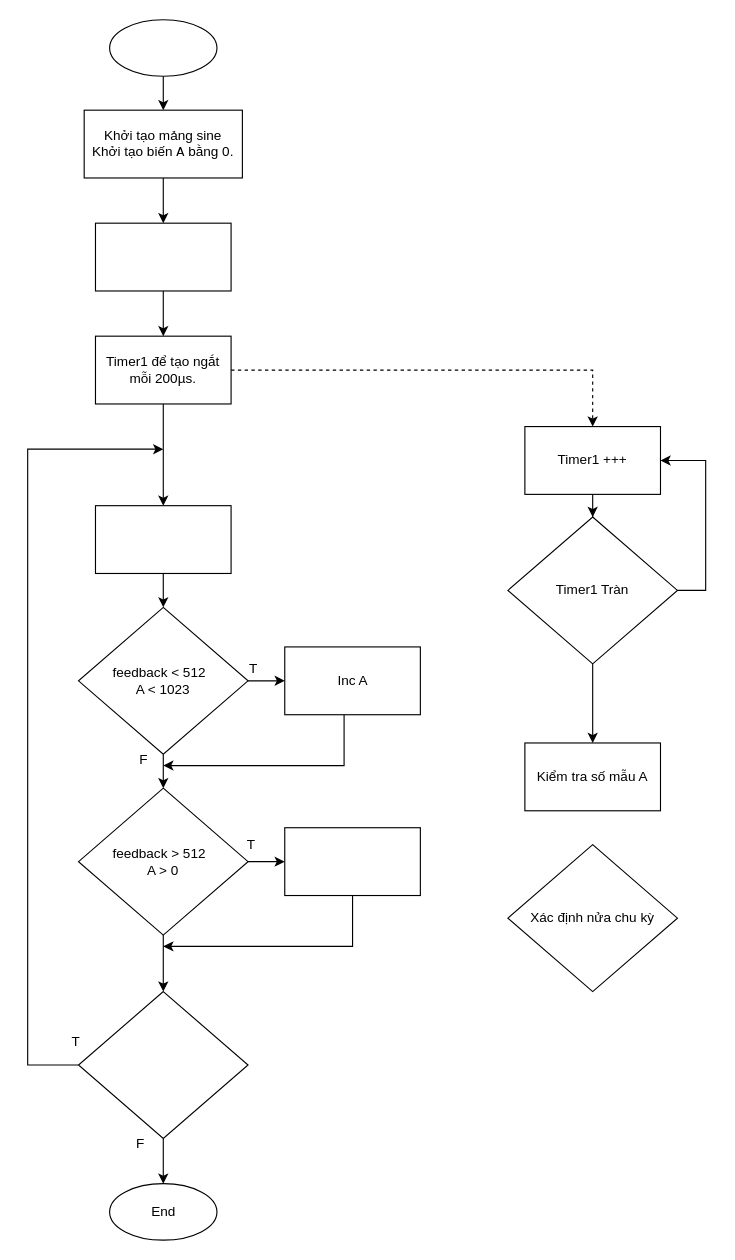
Image size: 735x1260. Some labels were removed from this diagram. The box of each missing label's shape, as (x1, y1, x2, y2) in pixels:
Begin: (108, 19, 217, 76)
Có nguồn: (77, 990, 248, 1138)
Dec A: (284, 827, 420, 896)
Khởi tạo trạng thái thấp cho tất cả các chân PWM.: (94, 222, 231, 291)
Đọc giá trị từ chân feedback: (94, 505, 231, 573)
